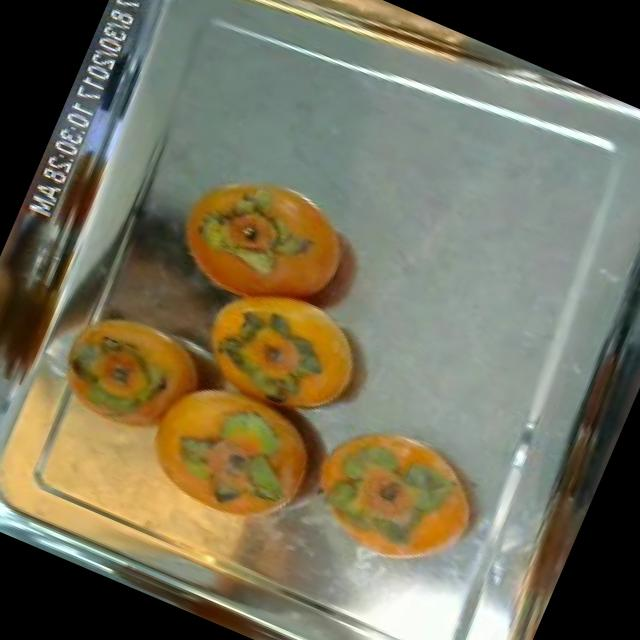Fruit: (147, 138, 386, 350), (280, 392, 511, 602), (64, 196, 272, 388)
